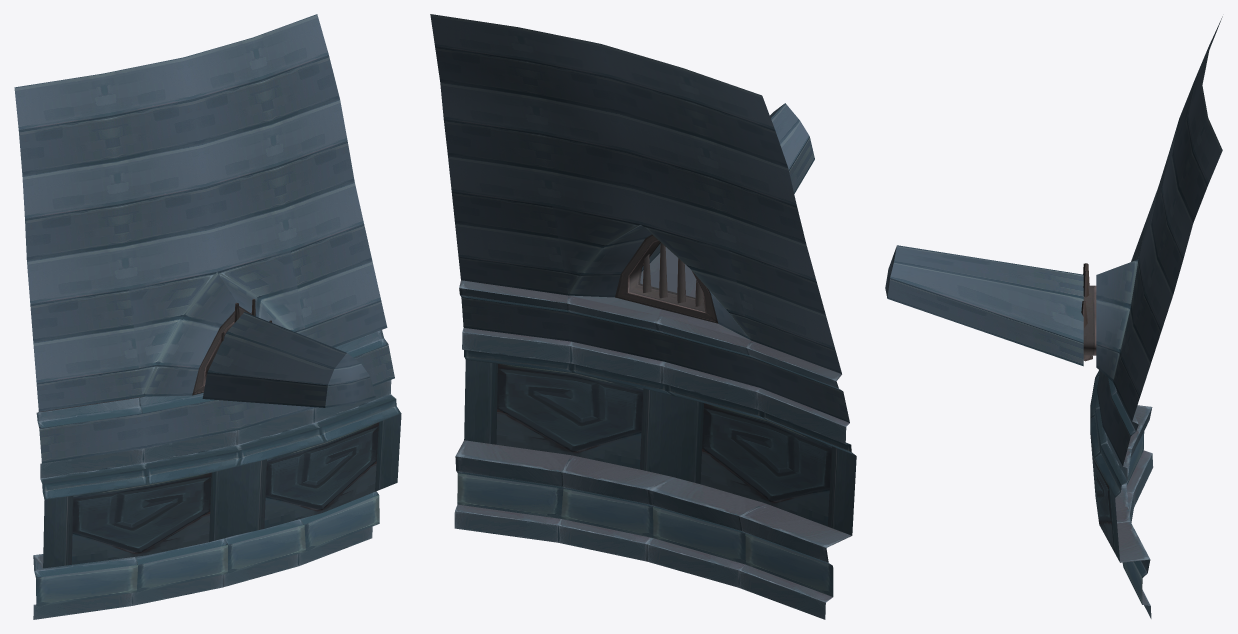
Rendered from A_CR_GEN_WallPanel_02.fbx.
The picture shows the model from 3 angles, left to right: view 1: azimuth 30°, elevation 25°; view 2: azimuth 150°, elevation 25°; view 3: azimuth 270°, elevation 25°; orthographic projection. The views are drawn at different scales.
Parts seen in each view (by area): view 1: A_CR_GEN_WallPanel_02; view 2: A_CR_GEN_WallPanel_02; view 3: A_CR_GEN_WallPanel_02.
Part boxes in pixels (x1=…): A_CR_GEN_WallPanel_02: x1=14, y1=14, x2=401, y2=619; A_CR_GEN_WallPanel_02: x1=430, y1=14, x2=856, y2=619; A_CR_GEN_WallPanel_02: x1=885, y1=16, x2=1222, y2=618.
Bounding box in the file's own units: 627 × 841 × 558.
Materials: 1 (1 with a texture image).
